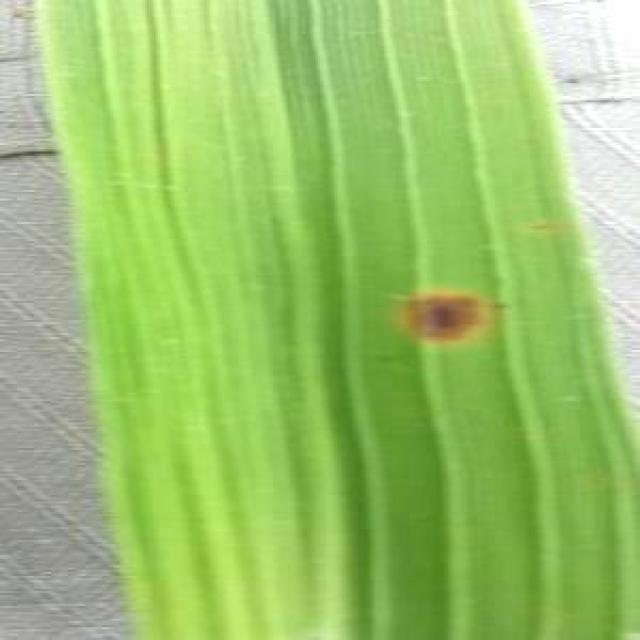Brown_Spot: (376, 269, 497, 367), (518, 213, 557, 237), (486, 288, 512, 314)
